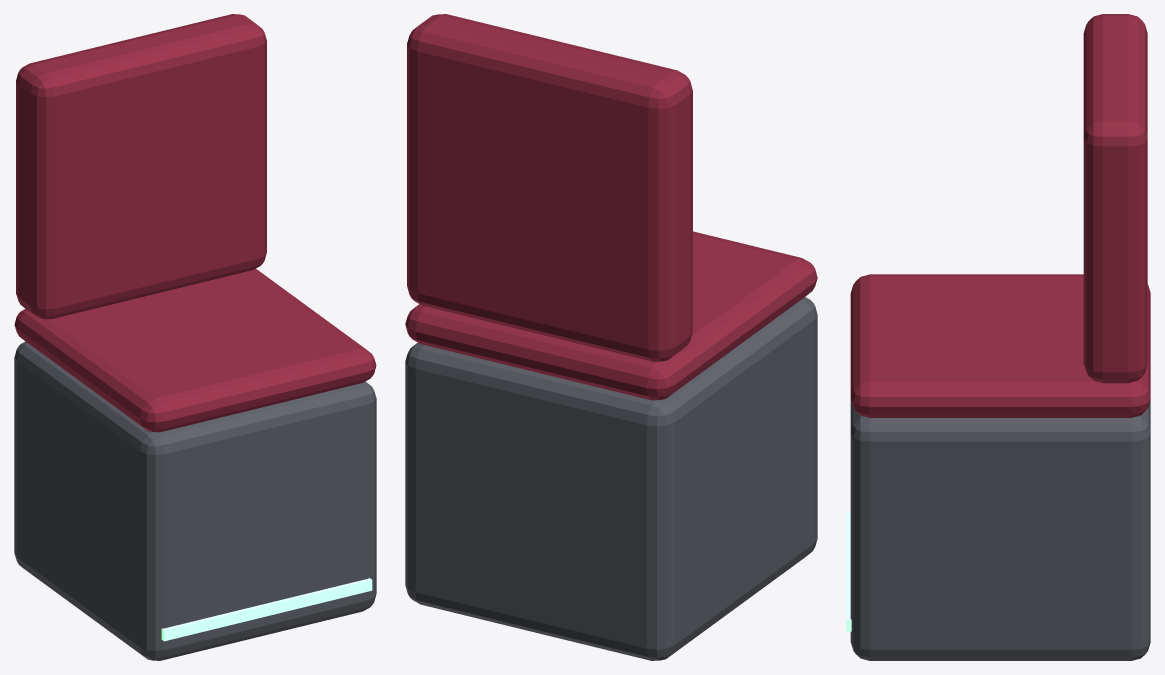
The model's file is dining_chair_block.glb.
The picture shows the model from 3 angles, left to right: view 1: azimuth 30°, elevation 25°; view 2: azimuth 150°, elevation 25°; view 3: azimuth 270°, elevation 25°; orthographic projection. The views are drawn at different scales.
Visible parts, largest first — view 1: GD_dining_chair_block__m1, GD_dining_chair_block__m0, GD_dining_chair_block__m2; view 2: GD_dining_chair_block__m0, GD_dining_chair_block__m1; view 3: GD_dining_chair_block__m0, GD_dining_chair_block__m1, GD_dining_chair_block__m2.
Part boxes in pixels (<box>): GD_dining_chair_block__m1: <box>14,14,376,432</box>; GD_dining_chair_block__m0: <box>14,341,376,660</box>; GD_dining_chair_block__m2: <box>161,578,372,641</box>; GD_dining_chair_block__m0: <box>405,297,817,660</box>; GD_dining_chair_block__m1: <box>405,14,817,400</box>; GD_dining_chair_block__m0: <box>850,399,1150,660</box>; GD_dining_chair_block__m1: <box>850,14,1150,417</box>; GD_dining_chair_block__m2: <box>846,512,851,631</box>.
Size of the model in its own units: 0.45 by 0.93 by 0.477.
